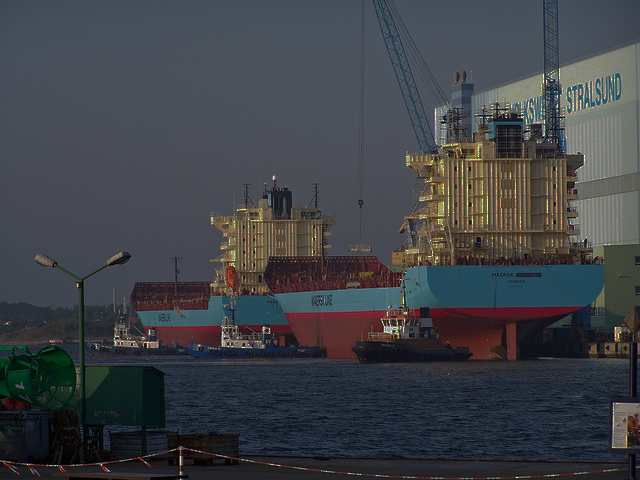container_ship: (260, 105, 599, 363), (131, 178, 324, 336)
tug_boat: (356, 283, 477, 368), (187, 298, 326, 359), (87, 303, 184, 361)
